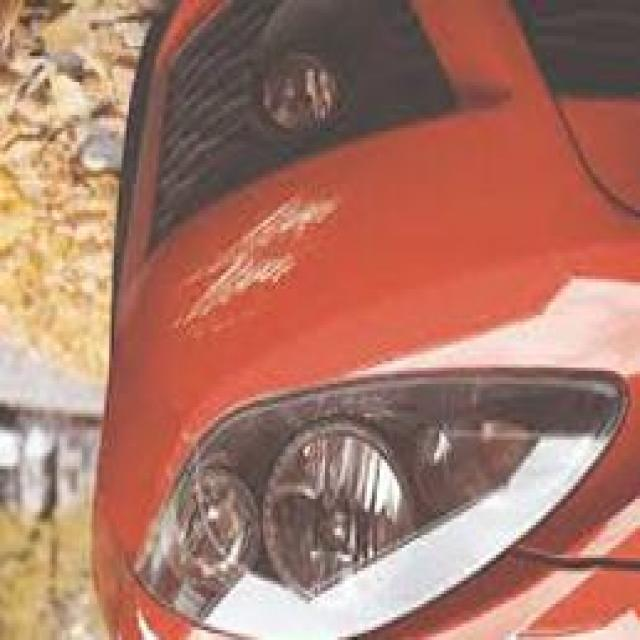scratch: (167, 171, 351, 348)
